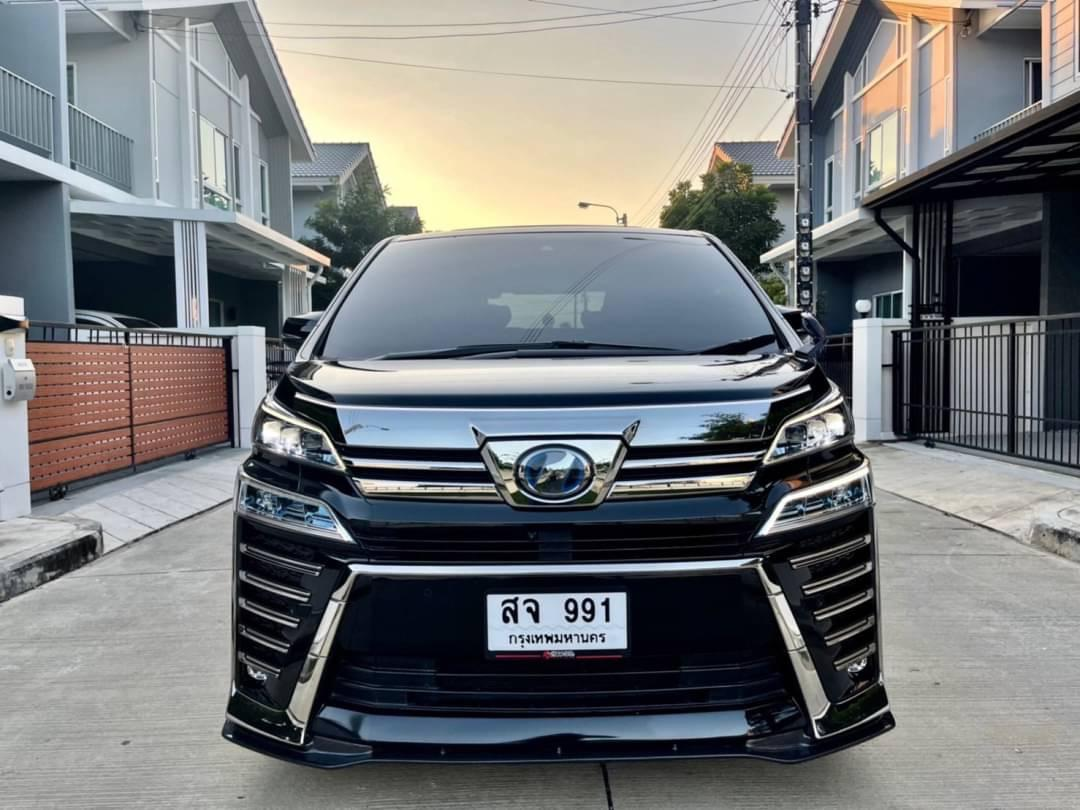license-plate: (482, 588, 631, 663)
